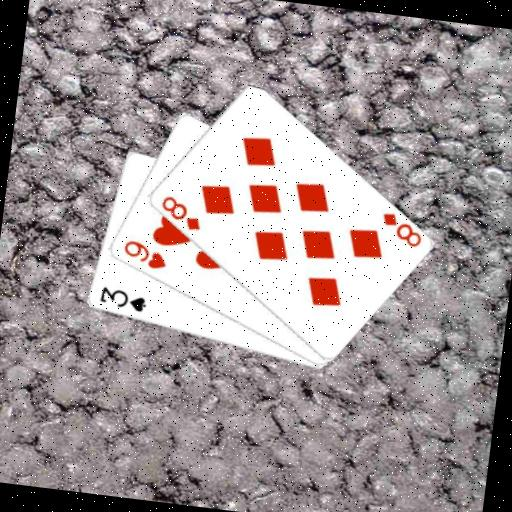3S: (95, 283, 149, 315)
8D: (155, 192, 205, 234), (376, 208, 426, 250)
9H: (118, 236, 170, 272)
